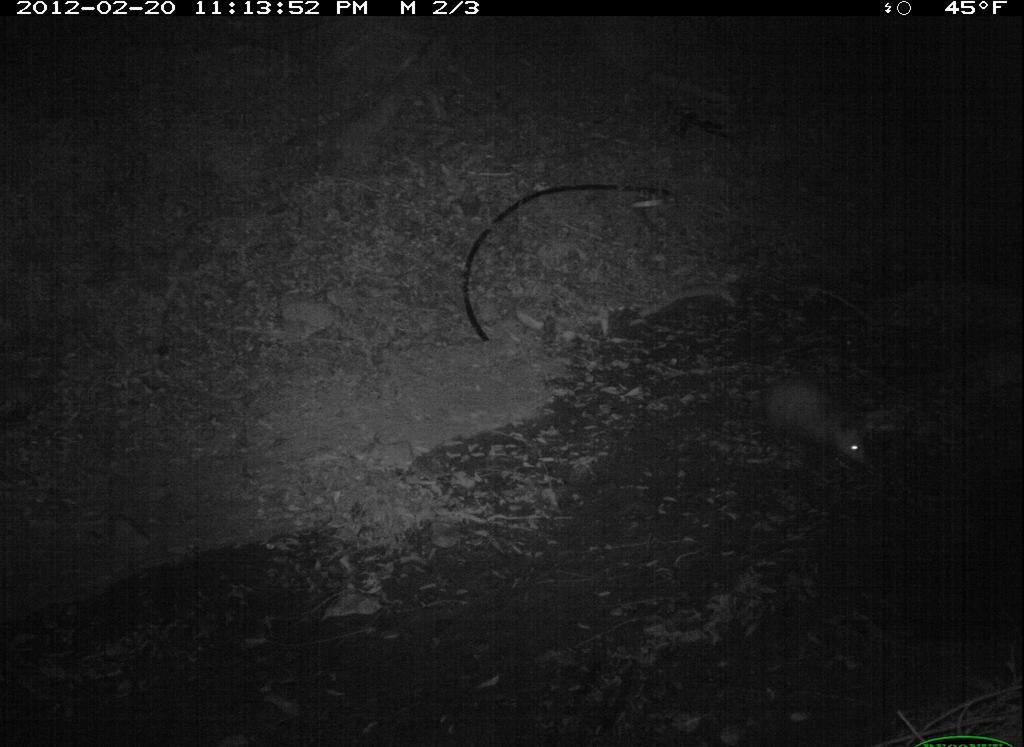opossum: (757, 361, 888, 482)
